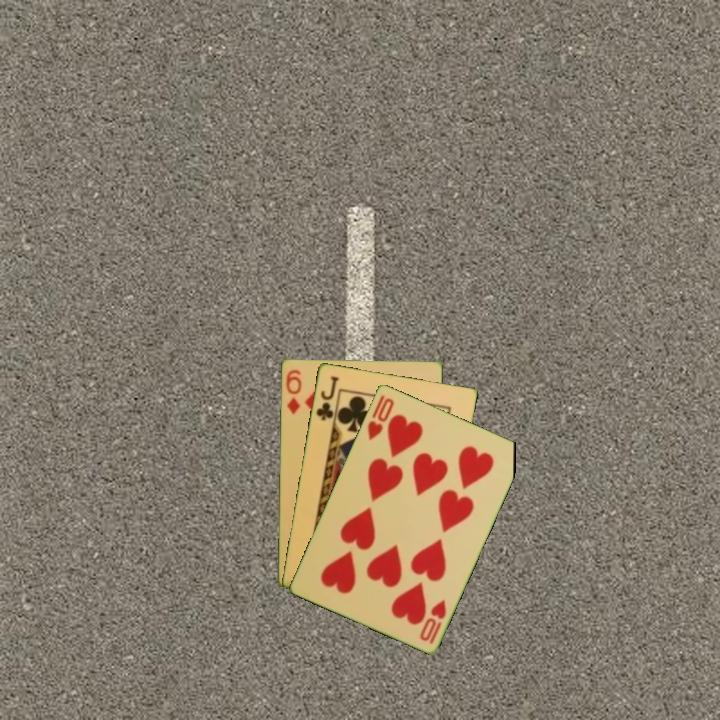10h: (416, 596, 449, 647), (364, 394, 397, 443)
6d: (282, 366, 304, 417)
Jc: (312, 372, 342, 423)
